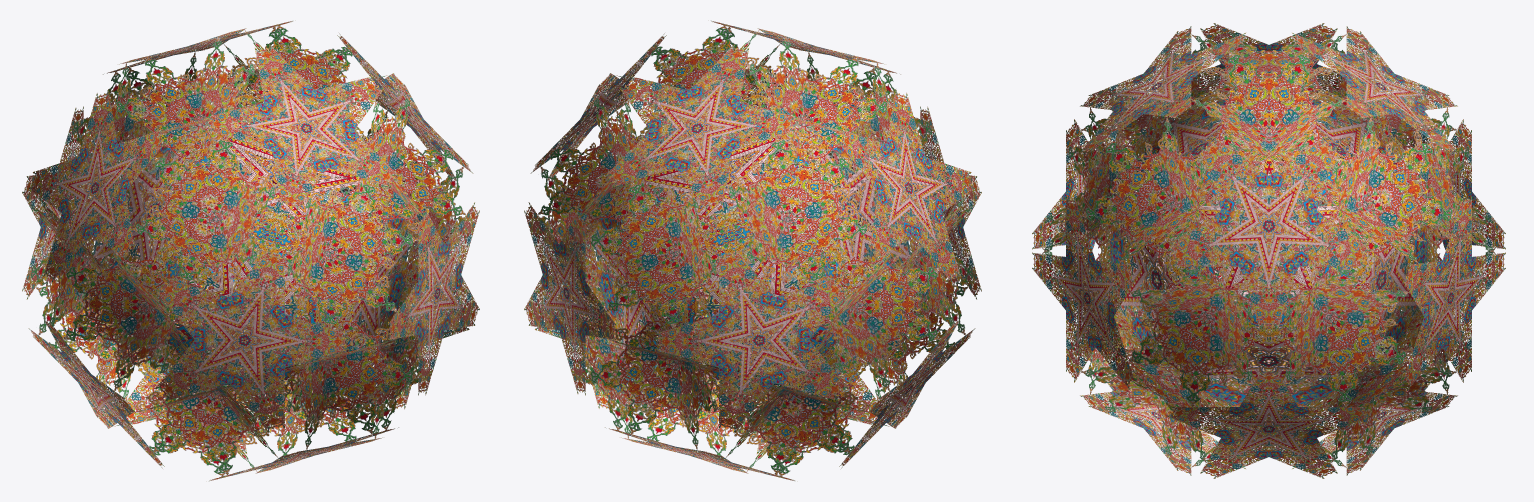
Rendered from Dodecadodecahedron4.gltf.
3 renders of one model, left to right at view 1: azimuth 30°, elevation 25°; view 2: azimuth 150°, elevation 25°; view 3: azimuth 270°, elevation 25°, orthographic.
Visible parts, largest first — view 1: Dodecadodecahedron4; view 2: Dodecadodecahedron4; view 3: Dodecadodecahedron4.
Boxes of the visible parts, left/top/right/bottom form: Dodecadodecahedron4: left=22, top=21, right=479, bottom=481; Dodecadodecahedron4: left=524, top=20, right=981, bottom=480; Dodecadodecahedron4: left=1032, top=23, right=1505, bottom=478.
Bounding box in the file's own units: 2 × 2 × 2.
1 material, 1 textured.
